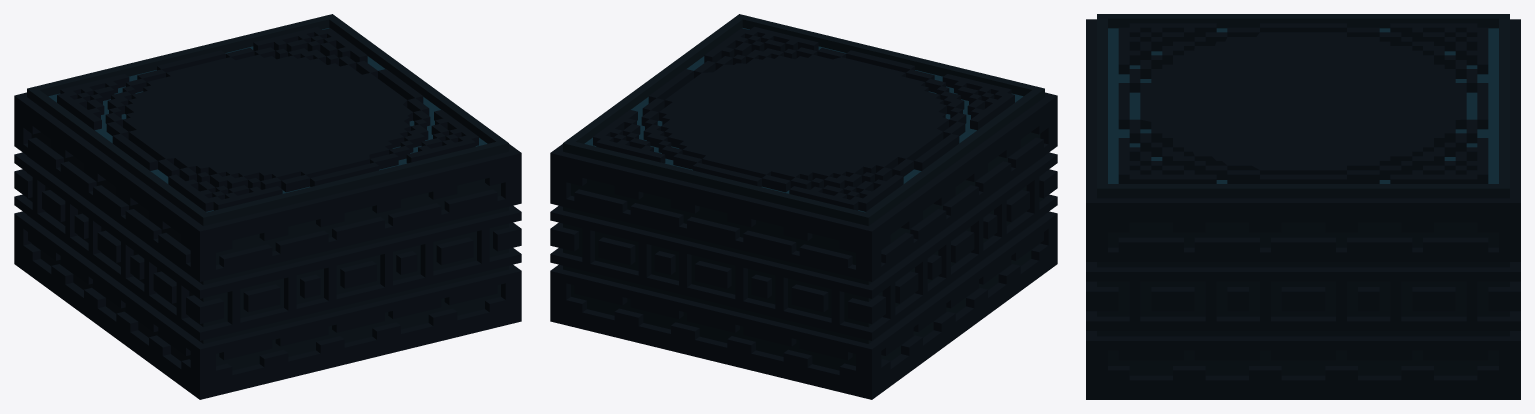
Rendered from Block_3.obj.
3 views of the same model, side by side, from view 1: azimuth 30°, elevation 25°; view 2: azimuth 150°, elevation 25°; view 3: azimuth 270°, elevation 25° (orthographic). The views are drawn at different scales.
Size of the model in its own units: 1 by 0.525 by 1.
